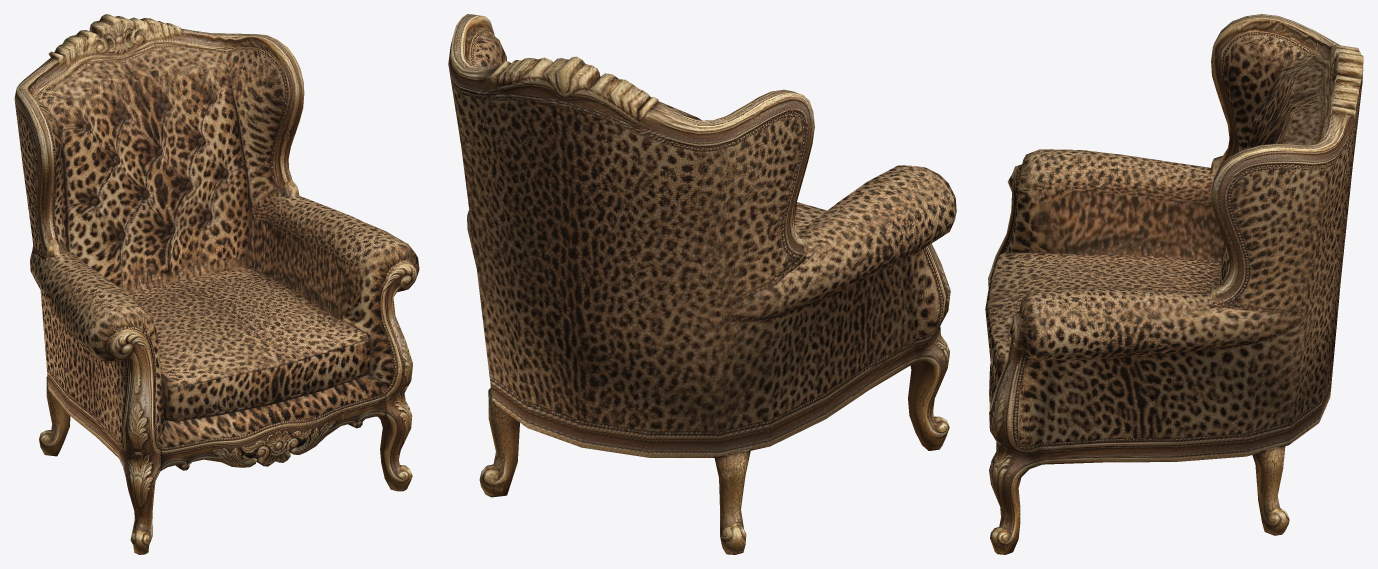
File: leopard+chair+3d+model.glb
The picture shows the model from 3 angles, left to right: view 1: azimuth 30°, elevation 25°; view 2: azimuth 150°, elevation 25°; view 3: azimuth 270°, elevation 25°; orthographic projection. The views are drawn at different scales.
Visible parts, largest first — view 1: tripo_node_93093ed7-36f9-430c-8c36-8273ec59b319; view 2: tripo_node_93093ed7-36f9-430c-8c36-8273ec59b319; view 3: tripo_node_93093ed7-36f9-430c-8c36-8273ec59b319.
Boxes of the visible parts, x1,y1,x2,y2 form: tripo_node_93093ed7-36f9-430c-8c36-8273ec59b319: (14,14,419,554); tripo_node_93093ed7-36f9-430c-8c36-8273ec59b319: (448,14,956,554); tripo_node_93093ed7-36f9-430c-8c36-8273ec59b319: (985,14,1363,554).
Size of the model in its own units: 0.8809 by 0.998 by 0.7988.
Materials: 1 (1 with a texture image).
